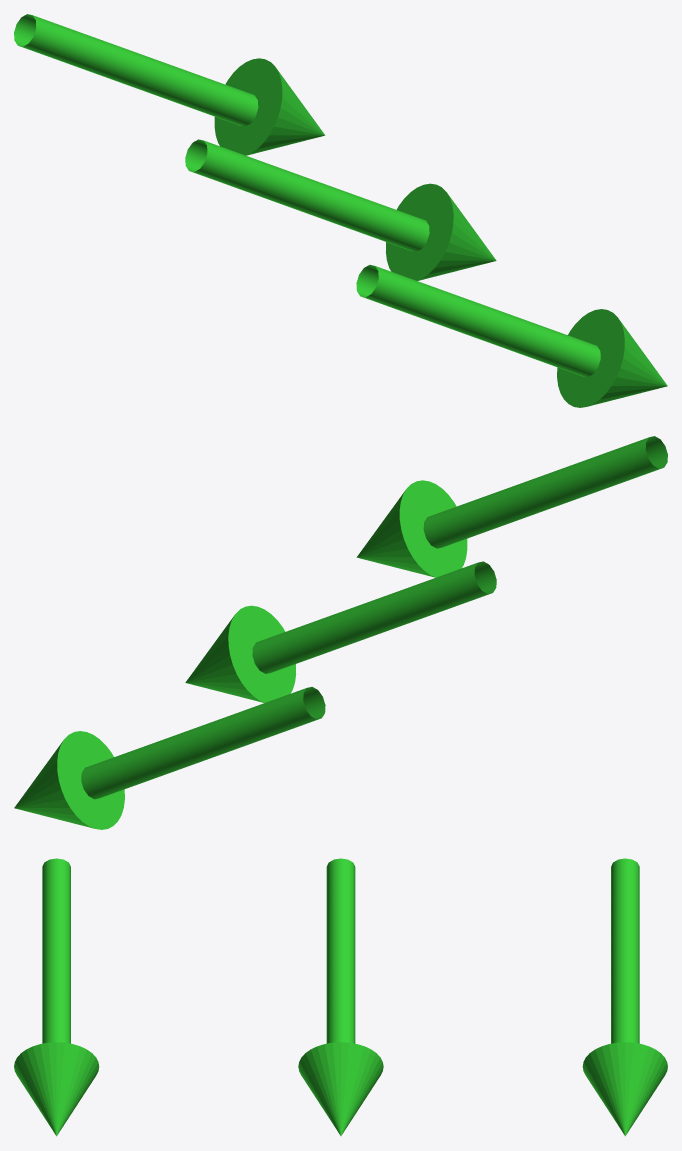
File: DCblmgf2.glb
The picture shows the model from 3 angles, top to bottom: view 1: azimuth 30°, elevation 25°; view 2: azimuth 150°, elevation 25°; view 3: azimuth 270°, elevation 25°; orthographic projection. The views are drawn at different scales.
Visible parts, largest first — view 1: NURBSパス.008, NURBSパス.009, NURBSパス.010, 円錐.009, 円錐.010, 円錐.008; view 2: NURBSパス.008, NURBSパス.010, NURBSパス.009, 円錐.010, 円錐.009, 円錐.008; view 3: NURBSパス.008, NURBSパス.010, NURBSパス.009, 円錐.010, 円錐.009, 円錐.008.
Boxes of the visible parts, x1,y1,x2,y2 form: NURBSパス.008: [185, 139, 429, 251]; NURBSパス.009: [356, 265, 600, 377]; NURBSパス.010: [14, 14, 258, 126]; 円錐.009: [557, 309, 667, 407]; 円錐.010: [214, 58, 325, 155]; 円錐.008: [386, 183, 496, 280]; NURBSパス.008: [252, 561, 496, 673]; NURBSパス.010: [81, 687, 325, 799]; NURBSパス.009: [423, 436, 667, 548]; 円錐.010: [14, 731, 124, 829]; 円錐.009: [356, 480, 467, 577]; 円錐.008: [185, 605, 295, 702]; NURBSパス.008: [326, 858, 355, 1043]; NURBSパス.010: [611, 858, 639, 1043]; NURBSパス.009: [42, 858, 70, 1043]; 円錐.010: [582, 1042, 667, 1136]; 円錐.009: [14, 1042, 99, 1136]; 円錐.008: [298, 1042, 383, 1135].
Bounding box in the file's own units: 1.04 × 0.6183 × 2.3.
